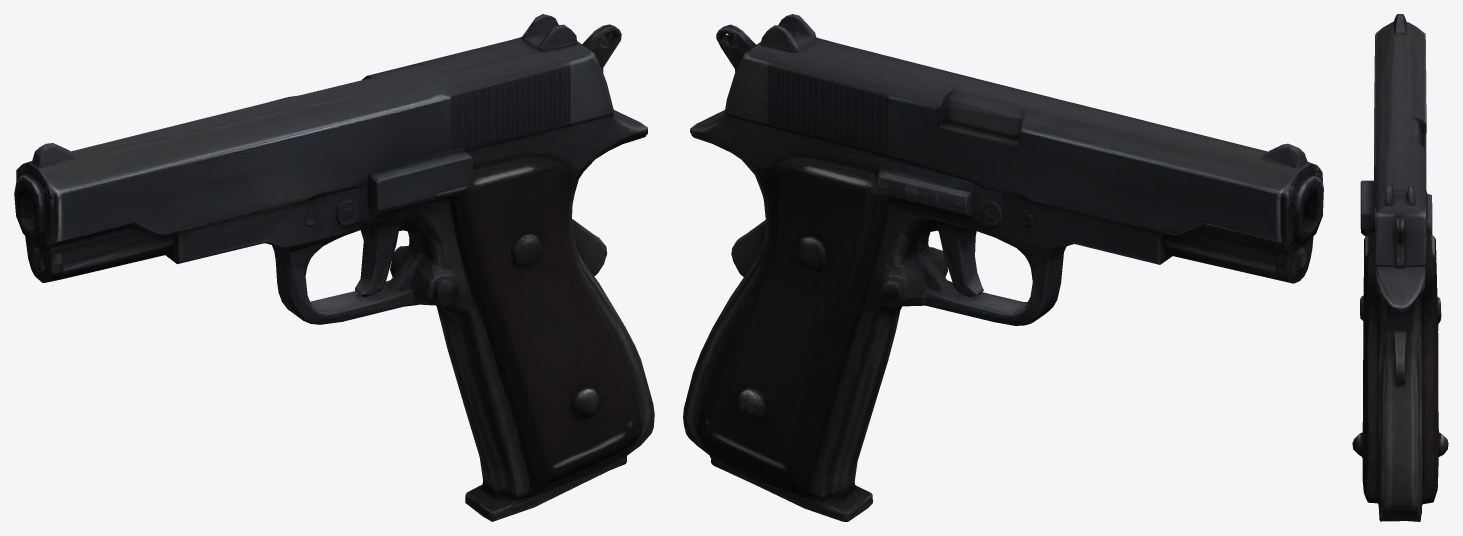
Rendered from black_walther.glb.
3 views of the same model, side by side, from view 1: azimuth 30°, elevation 25°; view 2: azimuth 150°, elevation 25°; view 3: azimuth 270°, elevation 25° (orthographic). The views are drawn at different scales.
Parts seen in each view (by area): view 1: geometry_0; view 2: geometry_0; view 3: geometry_0.
Part boxes in pixels (x1,y1,x2,y2): geometry_0: (14, 14, 654, 521); geometry_0: (683, 14, 1323, 521); geometry_0: (1352, 14, 1448, 521).
Bounding box in the file's own units: 0.9995 × 0.7322 × 0.1914.
1 material, 1 textured.
